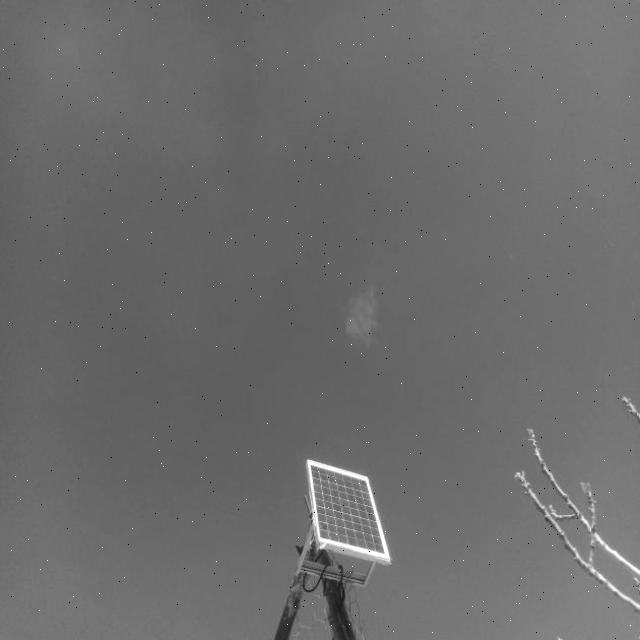Normal Solar Panel: (306, 460, 391, 560)
